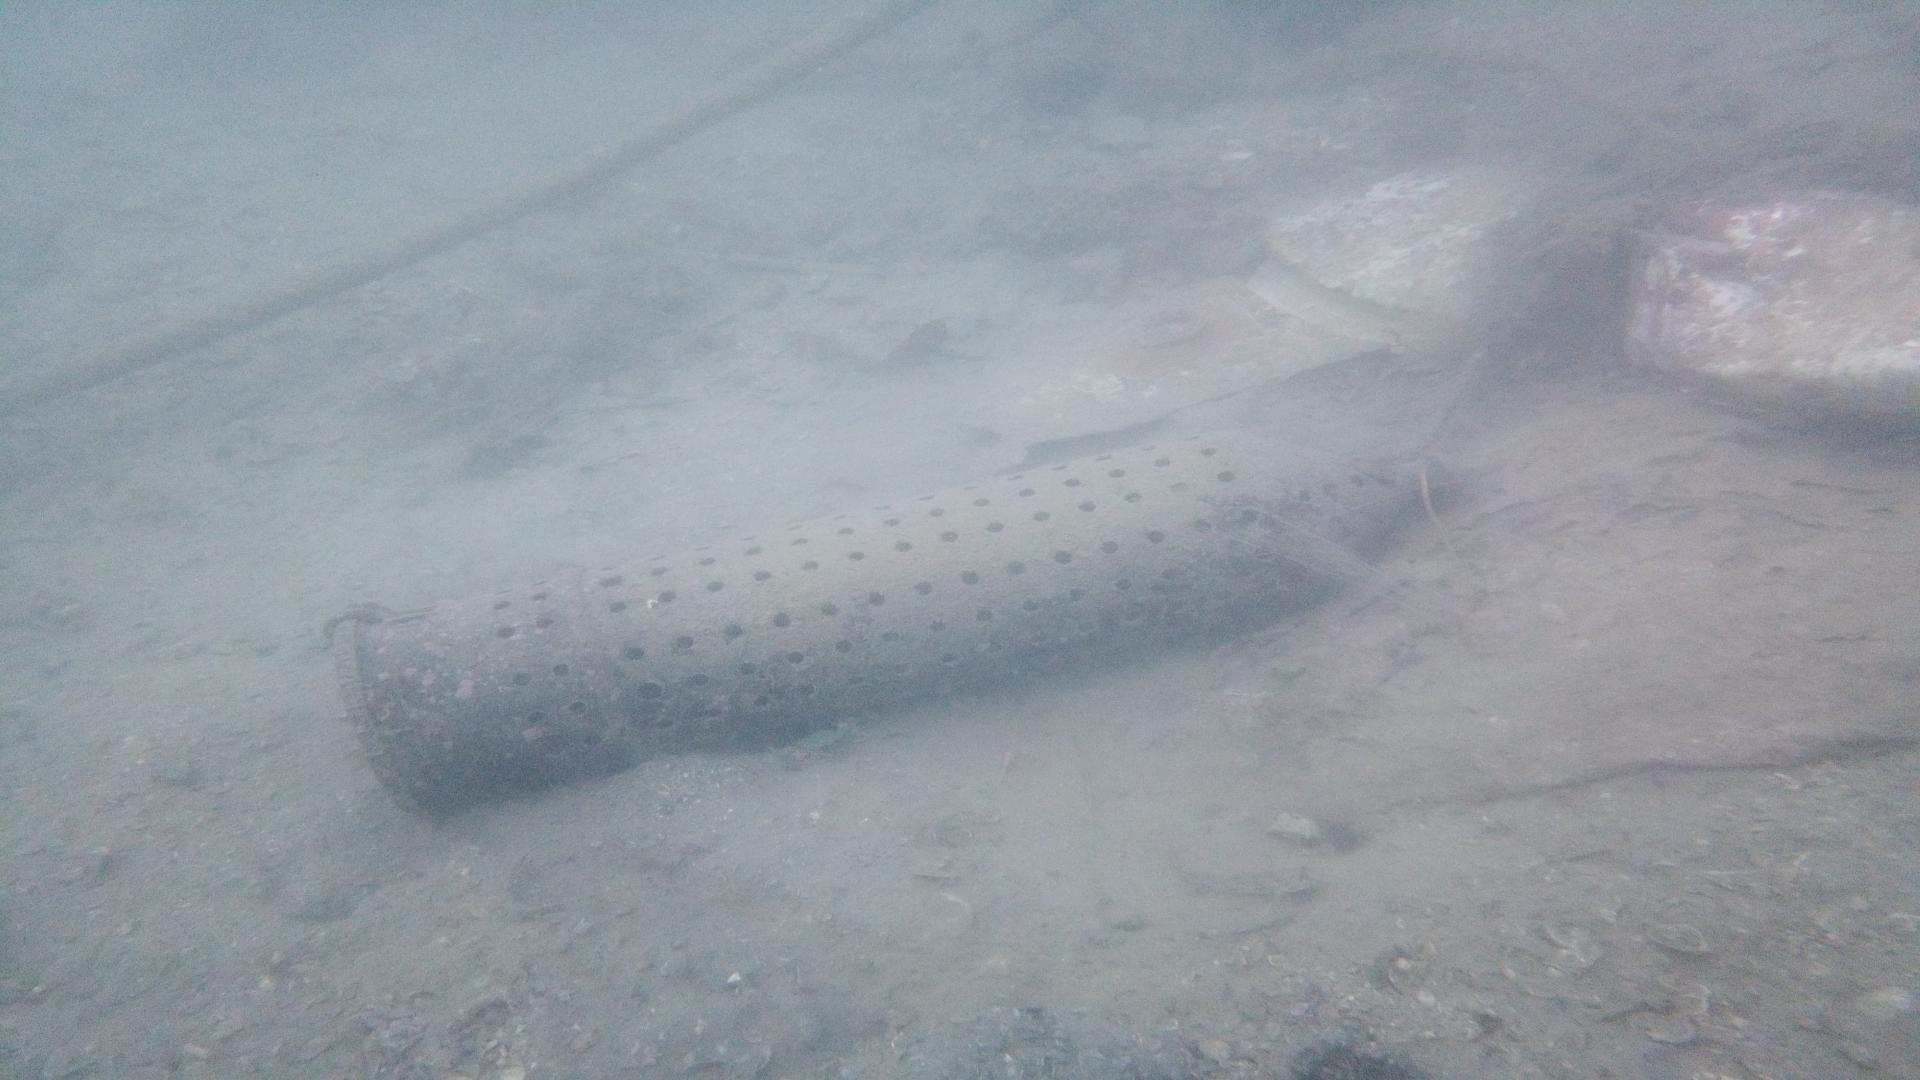eel fish trap: (326, 417, 1462, 816)
